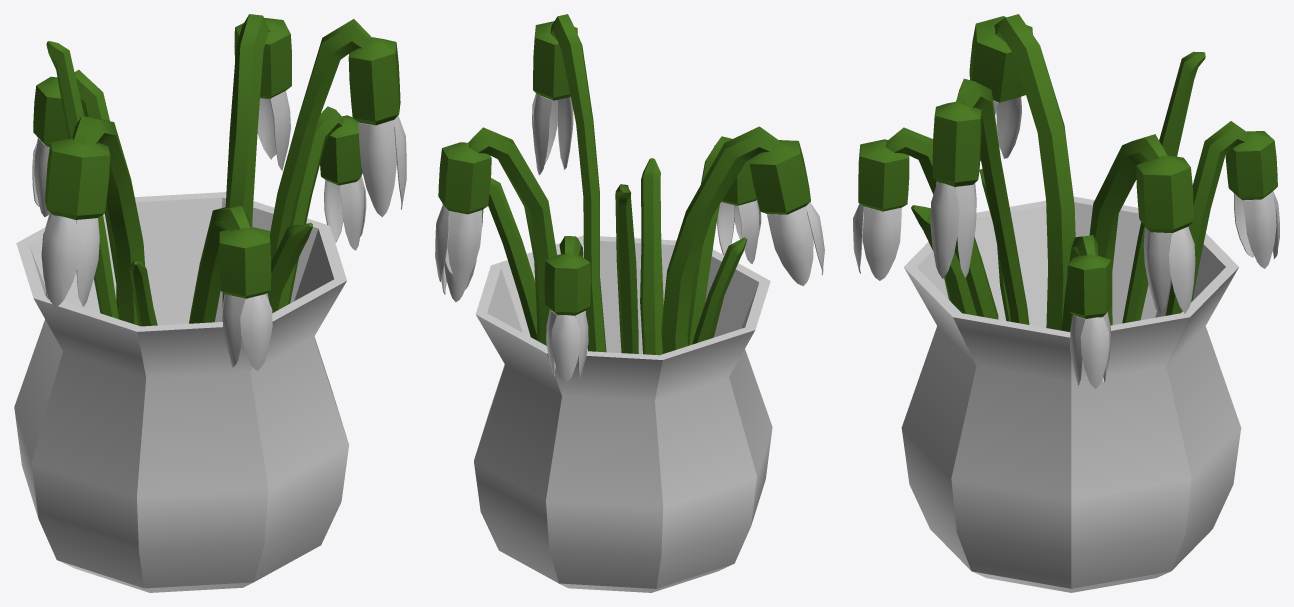
File: snowdropVase_v1.fbx
3 views of the same model, side by side, from view 1: azimuth 30°, elevation 25°; view 2: azimuth 150°, elevation 25°; view 3: azimuth 270°, elevation 25° (orthographic). The views are drawn at different scales.
Parts seen in each view (by area): view 1: snowdropVase_geo1; view 2: snowdropVase_geo1; view 3: snowdropVase_geo1.
Part boxes in pixels (x1,y1,x2,y2): snowdropVase_geo1: (14, 14, 406, 592); snowdropVase_geo1: (435, 14, 824, 592); snowdropVase_geo1: (853, 14, 1279, 592).
Size of the model in its own units: 35.62 by 48.61 by 36.2.
